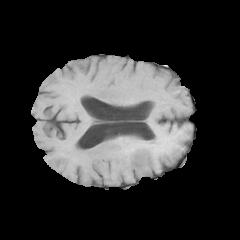glioma: (62, 120, 173, 178)
